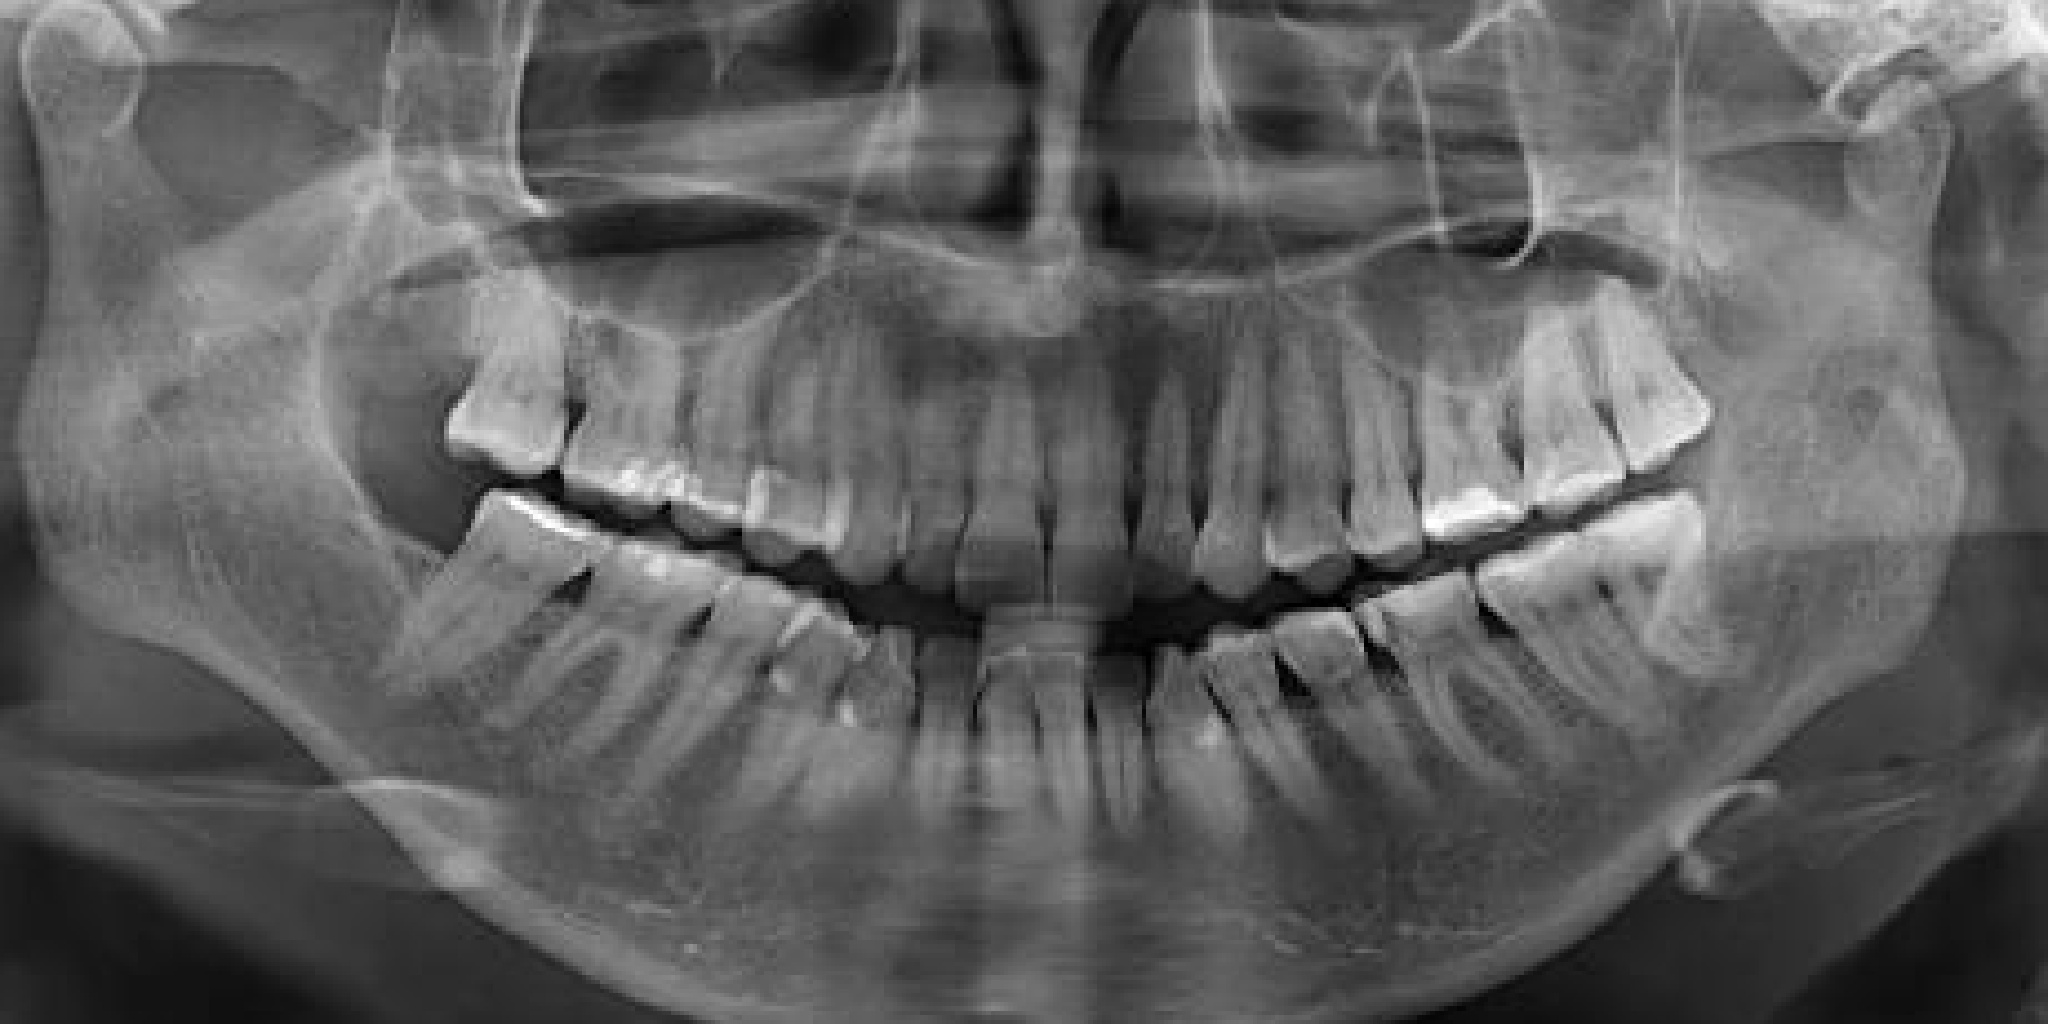Tooth: (1270, 479, 1685, 910), (266, 391, 673, 827), (505, 475, 896, 918), (1493, 387, 1866, 833), (422, 445, 778, 892), (602, 507, 957, 953), (1104, 526, 1448, 973), (680, 525, 1015, 970), (1481, 125, 1795, 568), (1055, 563, 1358, 1003), (1405, 162, 1695, 600), (1224, 210, 1509, 645), (1322, 191, 1590, 619), (391, 140, 658, 568), (936, 555, 1204, 984), (872, 559, 1127, 984), (677, 206, 923, 628), (814, 552, 1061, 973), (600, 202, 846, 623), (886, 252, 1127, 671), (1003, 562, 1243, 981), (969, 253, 1203, 670), (822, 232, 1049, 647), (1189, 236, 1415, 649), (748, 213, 974, 626), (1055, 253, 1277, 664), (1127, 239, 1348, 649), (520, 185, 741, 596)
